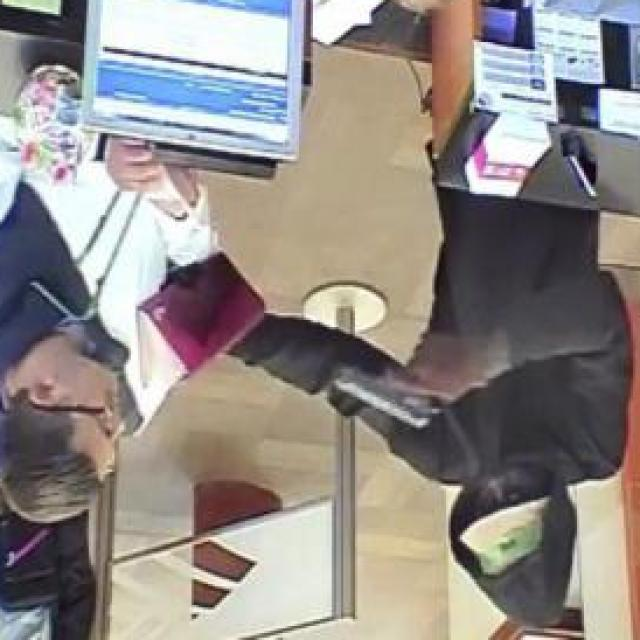pistol: (332, 315, 453, 437)
